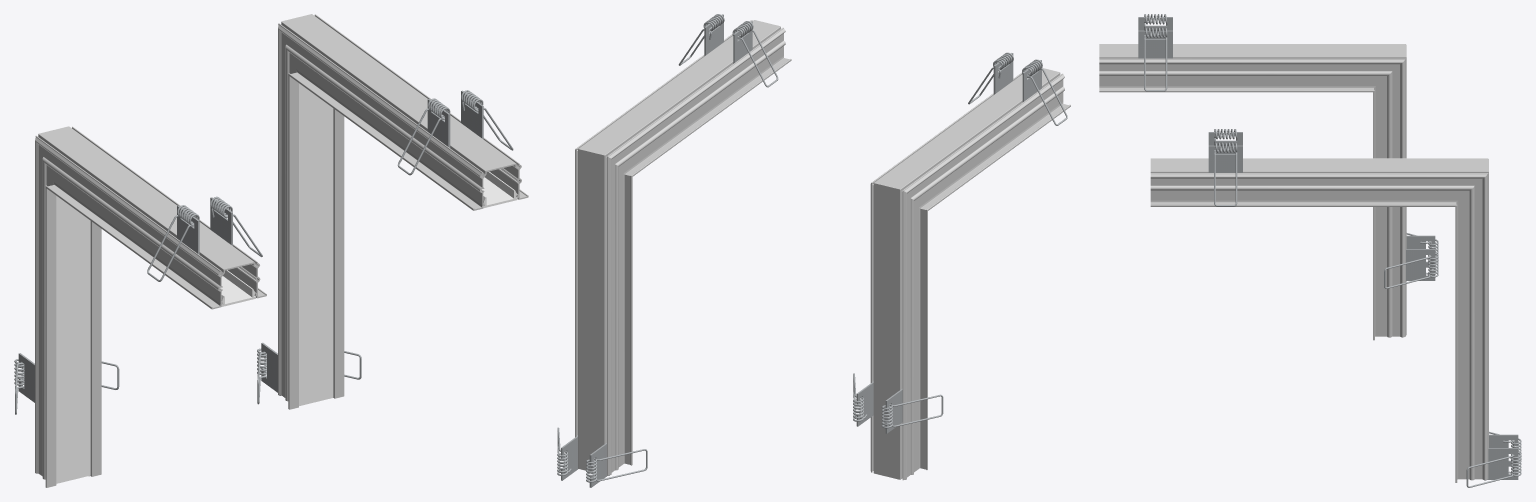
The model's file is Fit25StandardEmbutido-curva-teto-parede.glb.
The picture shows the model from 3 angles, left to right: view 1: azimuth 30°, elevation 25°; view 2: azimuth 150°, elevation 25°; view 3: azimuth 270°, elevation 25°; orthographic projection. The views are drawn at different scales.
Visible parts, largest first — view 1: 3DGeom-13 (×2), 3DGeom-1 (×2), 3DGeom-17 (×2), 3DGeom-9 (×2), 3DGeom-15 (×3), 3DGeom-3 (×3), 3DGeom-4, 3DGeom-16; view 2: 3DGeom-13 (×2), 3DGeom-1 (×2); view 3: 3DGeom-13 (×2), 3DGeom-1 (×2), 3DGeom-15 (×2), 3DGeom-3 (×2), 3DGeom-16 (×2), 3DGeom-4 (×2).
Boxes of the visible parts, x1,y1,x2,y2 form: 3DGeom-13 (×2): [278, 14, 528, 409]; 3DGeom-1 (×2): [35, 126, 266, 487]; 3DGeom-17 (×2): [299, 83, 517, 405]; 3DGeom-9 (×2): [56, 196, 255, 483]; 3DGeom-15 (×3): [261, 90, 483, 395]; 3DGeom-3 (×3): [18, 197, 232, 402]; 3DGeom-4: [147, 205, 199, 281]; 3DGeom-16: [397, 98, 450, 175]; 3DGeom-13 (×2): [575, 20, 791, 475]; 3DGeom-1 (×2): [870, 68, 1070, 480]; 3DGeom-13 (×2): [1150, 158, 1488, 482]; 3DGeom-1 (×2): [1099, 44, 1406, 340]; 3DGeom-15 (×2): [1208, 145, 1518, 480]; 3DGeom-3 (×2): [1138, 30, 1435, 280]; 3DGeom-16 (×2): [1214, 142, 1521, 487]; 3DGeom-4 (×2): [1144, 27, 1438, 288].
Size of the model in its own units: 0.2804 by 0.2746 by 0.3119.
Materials: 3 (1 with a texture image).
